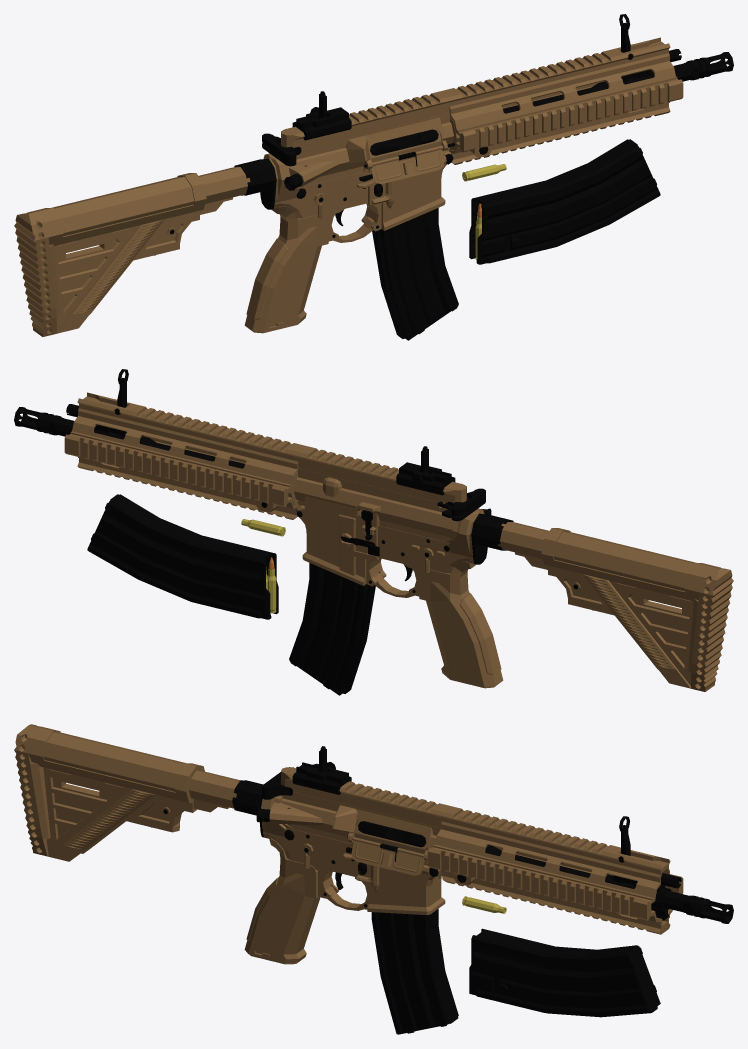
Rendered from Assault_Rifle_M4.glb.
3 views of the same model, one above another, from view 1: azimuth 30°, elevation 25°; view 2: azimuth 150°, elevation 25°; view 3: azimuth 330°, elevation 25° (orthographic).
Visible parts, largest first — view 1: hk416a5 stock_1, hk416a5 handguard_3, 55645 m16 mag 30rnd (stanag)_14, hk416a5 lower receiver_8, hk416a5 upper receiver_4, 55645 m16 mag empty 30rnd (stanag)_13, hk416a5 pistol grip_6, hk416a5 dust covet_9, hk416a5 rare sight_18, hk416a5 barrel_2, hk416a5 bolt carrier_12, hk416a5 flash guard_16 (+1 smaller); view 2: hk416a5 stock_1, hk416a5 handguard_3, 55645 m16 mag 30rnd (stanag)_14, hk416a5 lower receiver_8, hk416a5 upper receiver_4, 55645 m16 mag empty 30rnd (stanag)_13, hk416a5 pistol grip_6, hk416a5 rare sight_18, hk416a5 barrel_2, hk416a5 flash guard_16, hk416a5 charging handle_10; view 3: hk416a5 handguard_3, hk416a5 stock_1, 55645 m16 mag 30rnd (stanag)_14, hk416a5 lower receiver_8, hk416a5 upper receiver_4, 55645 m16 mag empty 30rnd (stanag)_13, hk416a5 pistol grip_6, hk416a5 barrel_2, hk416a5 dust covet_9, hk416a5 rare sight_18, hk416a5 flash guard_16, hk416a5 bolt carrier_12.
Boxes of the visible parts, x1,y1,x2,y2 form: hk416a5 stock_1: [14, 173, 206, 336]; hk416a5 handguard_3: [437, 37, 683, 164]; 55645 m16 mag 30rnd (stanag)_14: [469, 139, 660, 264]; hk416a5 lower receiver_8: [198, 150, 453, 242]; hk416a5 upper receiver_4: [281, 91, 453, 190]; 55645 m16 mag empty 30rnd (stanag)_13: [372, 208, 458, 340]; hk416a5 pistol grip_6: [244, 206, 328, 333]; hk416a5 dust covet_9: [364, 143, 455, 184]; hk416a5 rare sight_18: [292, 91, 351, 140]; hk416a5 barrel_2: [503, 49, 691, 113]; hk416a5 bolt carrier_12: [370, 129, 438, 155]; hk416a5 flash guard_16: [684, 52, 733, 80]; hk416a5 stock_1: [541, 528, 733, 691]; hk416a5 handguard_3: [64, 392, 310, 519]; 55645 m16 mag 30rnd (stanag)_14: [87, 494, 278, 619]; hk416a5 lower receiver_8: [295, 505, 549, 597]; hk416a5 upper receiver_4: [294, 446, 491, 542]; 55645 m16 mag empty 30rnd (stanag)_13: [289, 563, 375, 695]; hk416a5 pistol grip_6: [419, 561, 503, 688]; hk416a5 rare sight_18: [396, 446, 455, 495]; hk416a5 barrel_2: [56, 404, 244, 468]; hk416a5 flash guard_16: [14, 407, 63, 435]; hk416a5 charging handle_10: [437, 488, 485, 521]; hk416a5 handguard_3: [427, 805, 683, 934]; hk416a5 stock_1: [14, 724, 204, 861]; 55645 m16 mag 30rnd (stanag)_14: [469, 928, 660, 1017]; hk416a5 lower receiver_8: [189, 770, 445, 915]; hk416a5 upper receiver_4: [256, 767, 449, 863]; 55645 m16 mag empty 30rnd (stanag)_13: [371, 909, 458, 1034]; hk416a5 pistol grip_6: [244, 838, 320, 964]; hk416a5 barrel_2: [485, 845, 687, 920]; hk416a5 dust covet_9: [347, 836, 424, 875]; hk416a5 rare sight_18: [292, 746, 351, 794]; hk416a5 flash guard_16: [683, 895, 733, 923]; hk416a5 bolt carrier_12: [358, 821, 426, 847].
Size of the model in its own units: 7.85 by 2.86 by 0.723.
